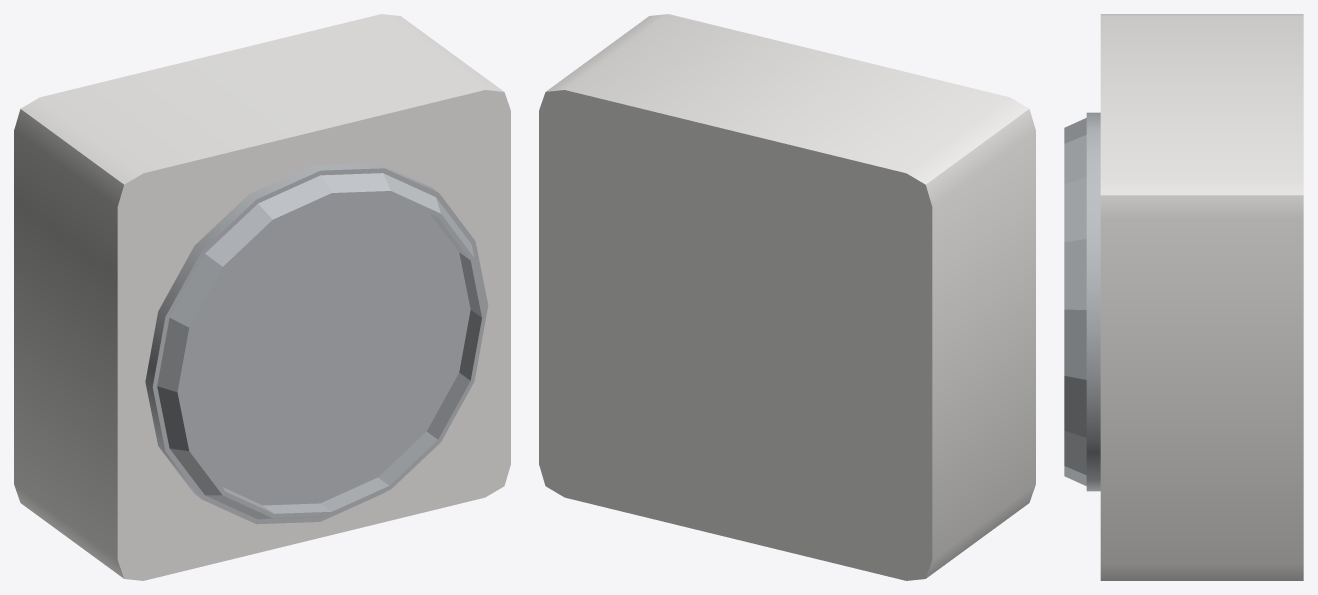
Rendered from SM_airconditioner_01.fbx.
3 renders of one model, left to right at view 1: azimuth 30°, elevation 25°; view 2: azimuth 150°, elevation 25°; view 3: azimuth 270°, elevation 25°, orthographic. The views are drawn at different scales.
Visible parts, largest first — view 1: Box040; view 2: Box040; view 3: Box040.
Boxes of the visible parts, box(x1,y1,x2,y2) form: Box040: box(14, 14, 510, 580); Box040: box(539, 14, 1035, 580); Box040: box(1064, 14, 1303, 580).
Bounding box in the file's own units: 22.7 × 12.24 × 22.49.
